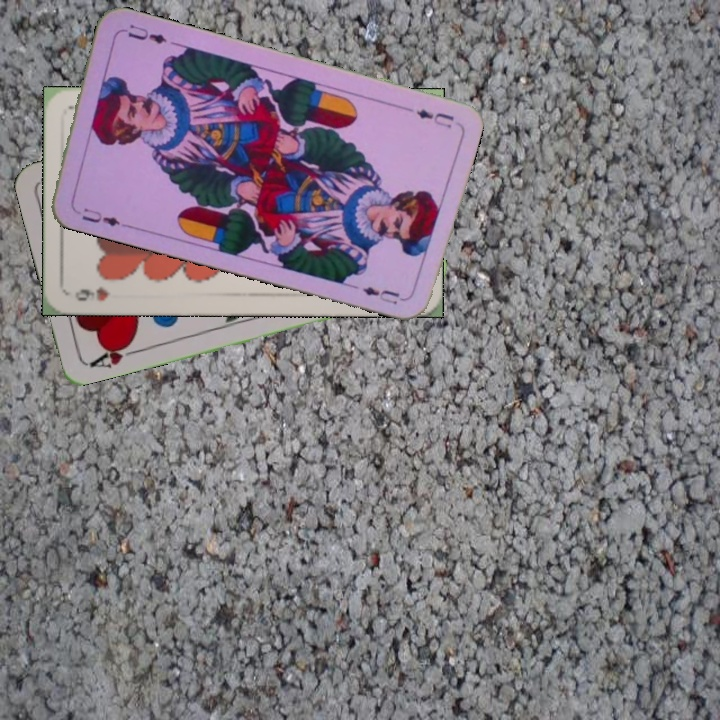EU: (70, 203, 128, 230), (412, 105, 457, 131)
H9: (71, 283, 113, 304)
HA: (85, 336, 143, 371)
